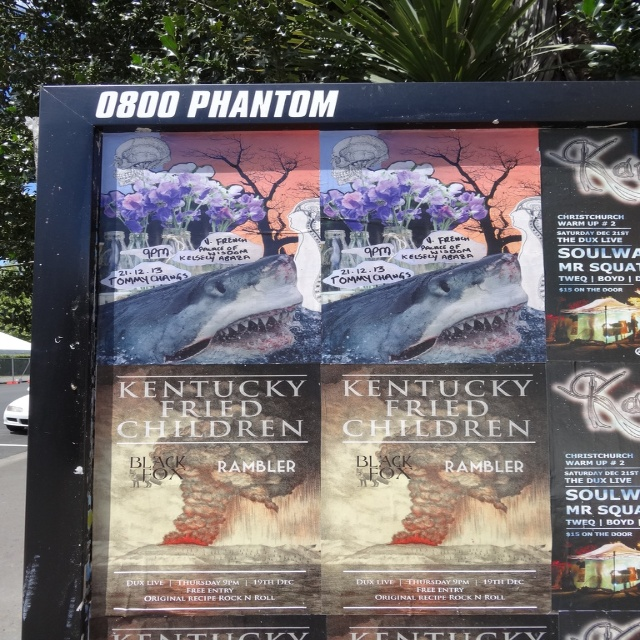Shark: (330, 248, 527, 359), (111, 253, 305, 365)
